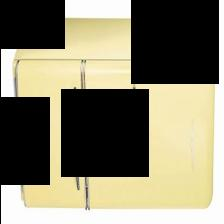yellow: (13, 18, 214, 210)
